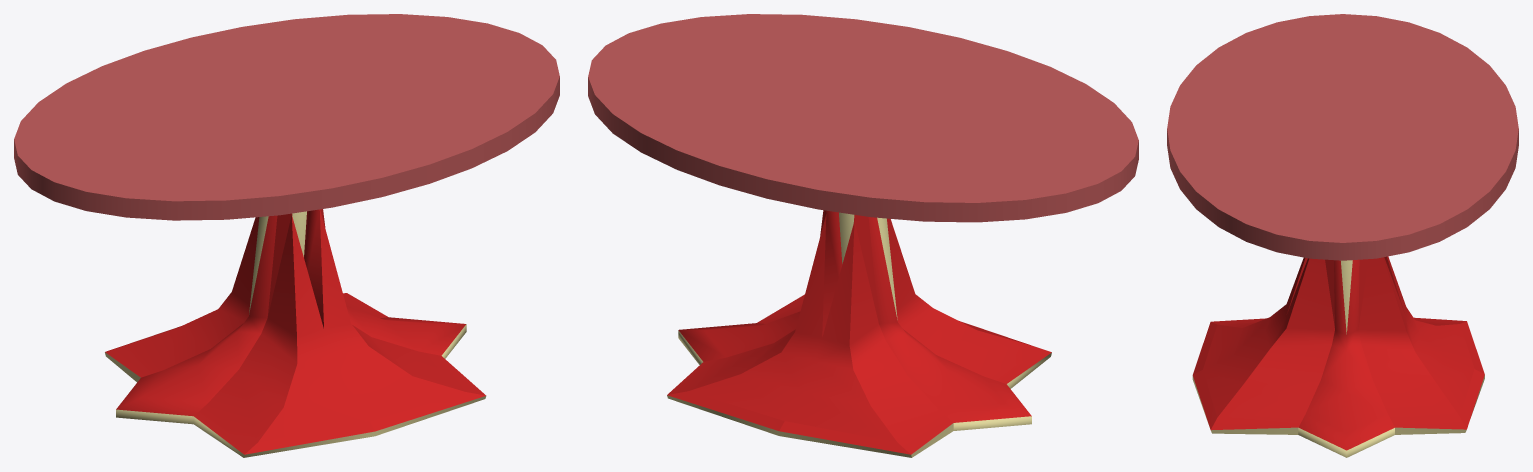
Rendered from Table.fbx.
3 views of the same model, side by side, from view 1: azimuth 30°, elevation 25°; view 2: azimuth 150°, elevation 25°; view 3: azimuth 270°, elevation 25° (orthographic). The views are drawn at different scales.
Visible parts, largest first — view 1: Table; view 2: Table; view 3: Table.
Boxes of the visible parts, x1,y1,x2,y2 form: Table: [14, 14, 559, 457]; Table: [588, 14, 1138, 457]; Table: [1167, 14, 1518, 457].
Bounding box in the file's own units: 179 × 90.25 × 116.
